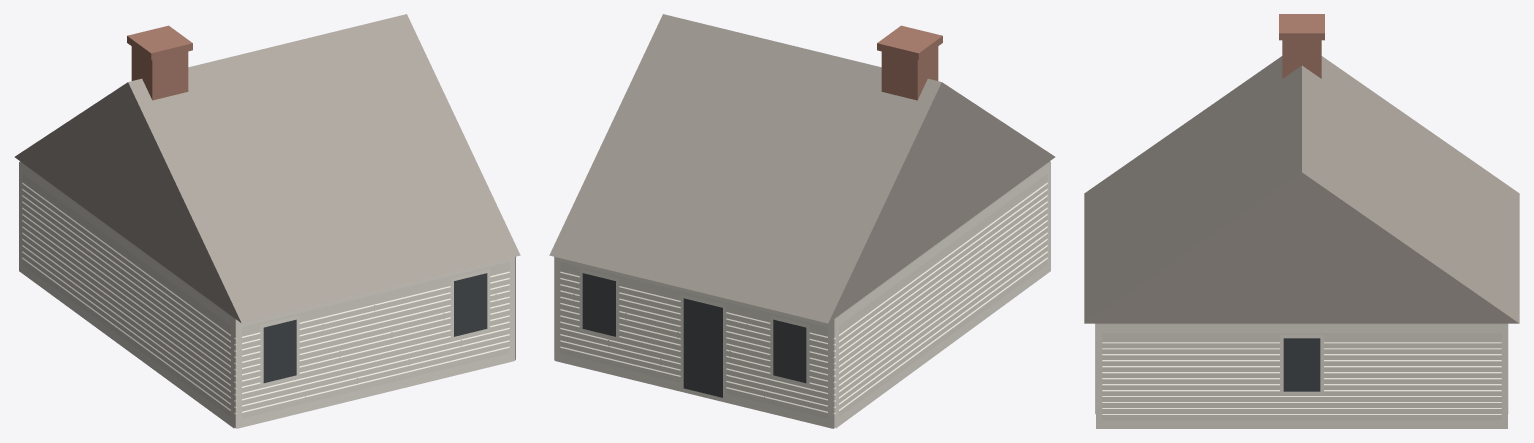
File: recon_1835_blk_randolph_dearborn_d4_03__inferred_1835.glb
The picture shows the model from 3 angles, left to right: view 1: azimuth 30°, elevation 25°; view 2: azimuth 150°, elevation 25°; view 3: azimuth 270°, elevation 25°; orthographic projection. The views are drawn at different scales.
Visible parts, largest first — view 1: recon_1835_blk_randolph_dearborn_d4_03__inferred_1835; view 2: recon_1835_blk_randolph_dearborn_d4_03__inferred_1835; view 3: recon_1835_blk_randolph_dearborn_d4_03__inferred_1835.
Boxes of the visible parts, x1=… form: recon_1835_blk_randolph_dearborn_d4_03__inferred_1835: x1=14, y1=14, x2=520, y2=428; recon_1835_blk_randolph_dearborn_d4_03__inferred_1835: x1=549, y1=14, x2=1055, y2=428; recon_1835_blk_randolph_dearborn_d4_03__inferred_1835: x1=1084, y1=14, x2=1519, y2=428.
Size of the model in its own units: 6.63 by 6.78 by 9.25.
